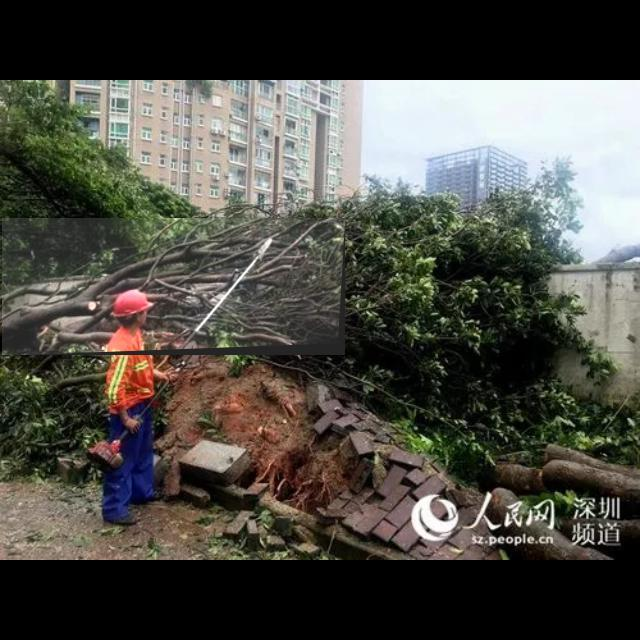fallen_tree: (2, 218, 346, 356)
